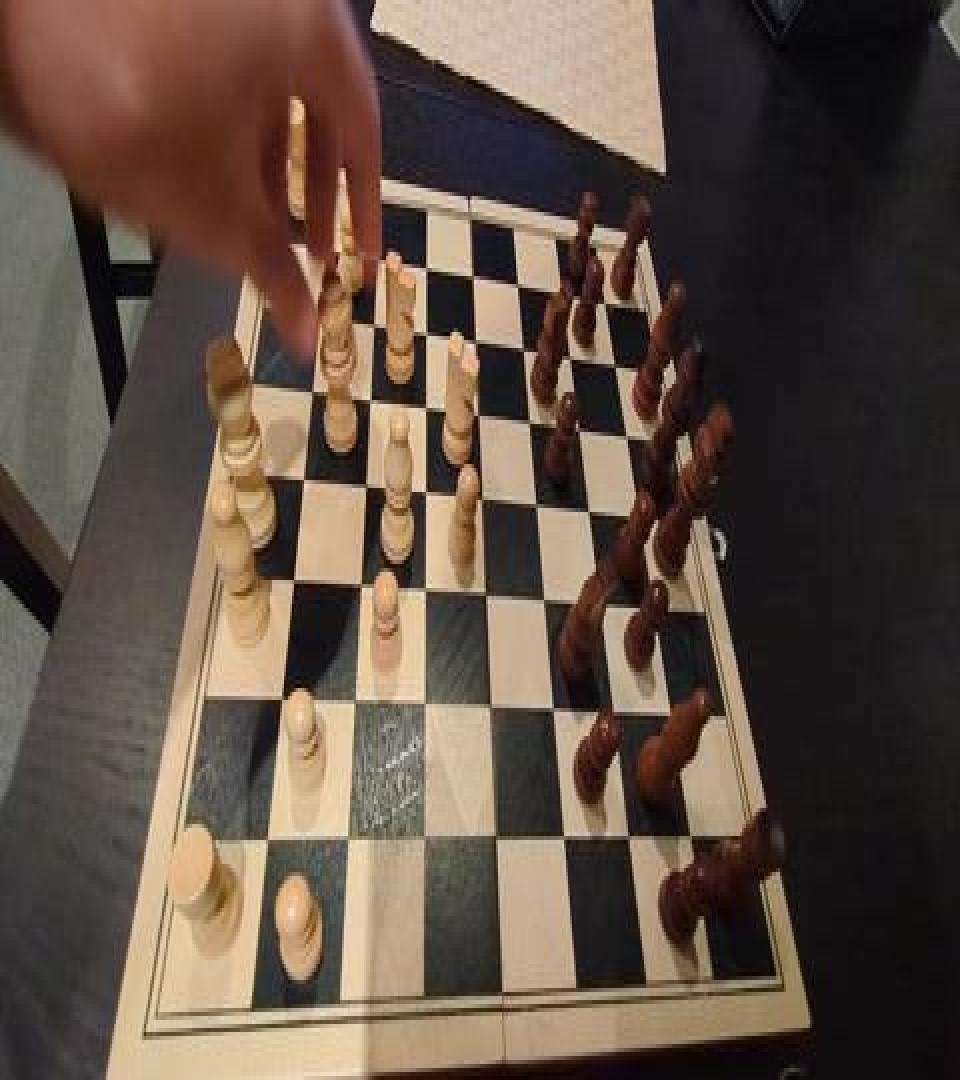xcorner: (597, 286, 615, 322), (554, 278, 572, 314), (510, 268, 528, 304), (465, 260, 483, 296), (417, 250, 435, 286), (369, 240, 387, 276), (318, 230, 336, 266), (607, 348, 625, 384), (562, 340, 580, 376), (515, 332, 533, 368), (467, 324, 485, 360), (417, 316, 435, 352), (365, 306, 383, 342), (312, 296, 330, 332), (618, 420, 636, 456), (570, 412, 588, 448), (521, 406, 539, 442), (470, 398, 488, 434), (417, 390, 435, 426), (361, 382, 379, 418), (304, 372, 322, 408), (631, 500, 649, 536), (580, 494, 598, 530), (528, 488, 546, 524), (473, 480, 491, 516), (416, 474, 434, 510), (357, 466, 375, 502), (295, 460, 313, 496), (645, 590, 663, 626), (592, 586, 610, 622), (535, 582, 553, 618), (477, 576, 495, 612), (416, 572, 434, 608), (352, 566, 370, 602), (285, 560, 303, 596), (662, 696, 680, 732), (604, 694, 622, 730), (544, 690, 562, 726), (481, 688, 499, 724), (415, 684, 433, 720), (346, 682, 364, 718), (273, 678, 291, 714), (681, 818, 699, 854), (620, 818, 638, 854), (555, 818, 573, 854), (486, 818, 504, 854), (415, 818, 433, 854), (339, 820, 357, 856), (259, 820, 277, 856)
